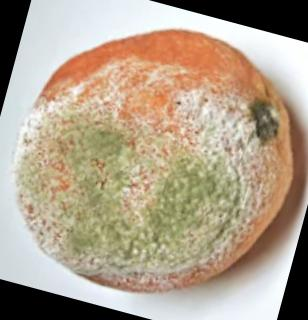Orange Rotten: (7, 13, 302, 301)
